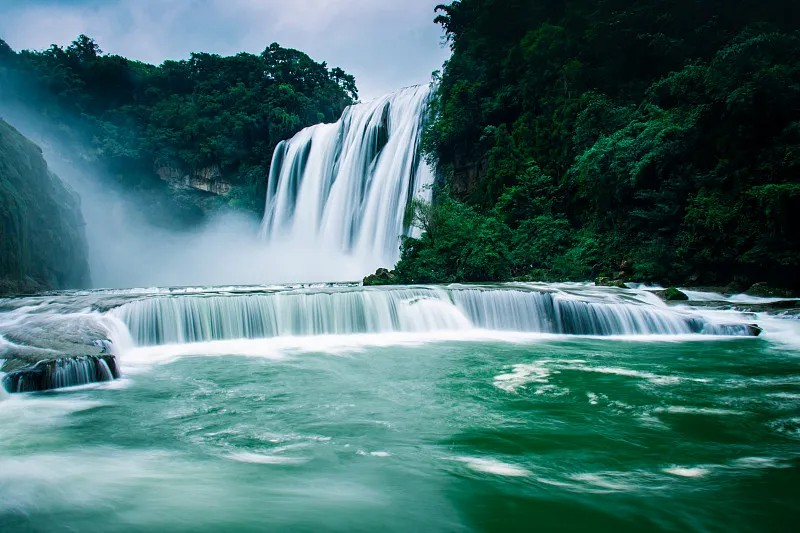Huangguoshu: (256, 83, 437, 280)
